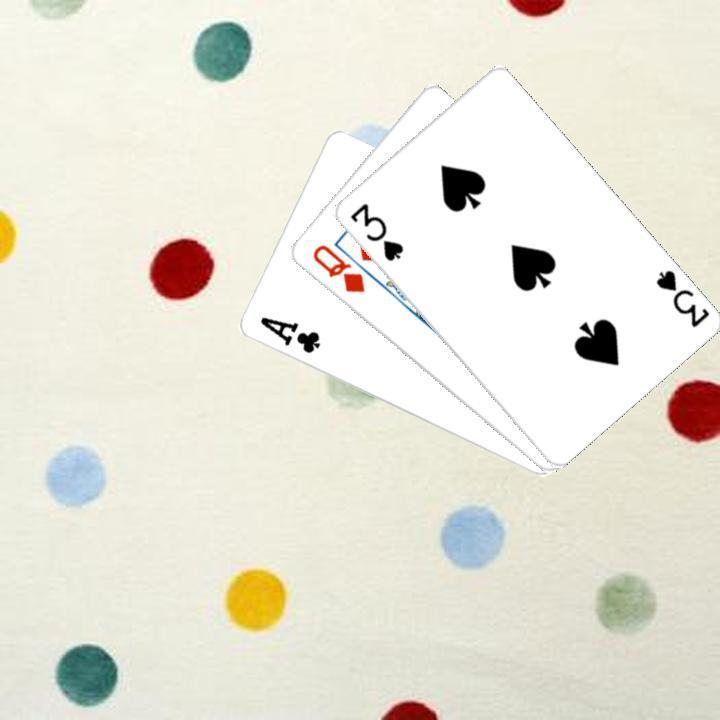3: (345, 198, 406, 264), (650, 265, 711, 330)
A: (255, 312, 322, 356)
Q: (307, 240, 367, 295)
